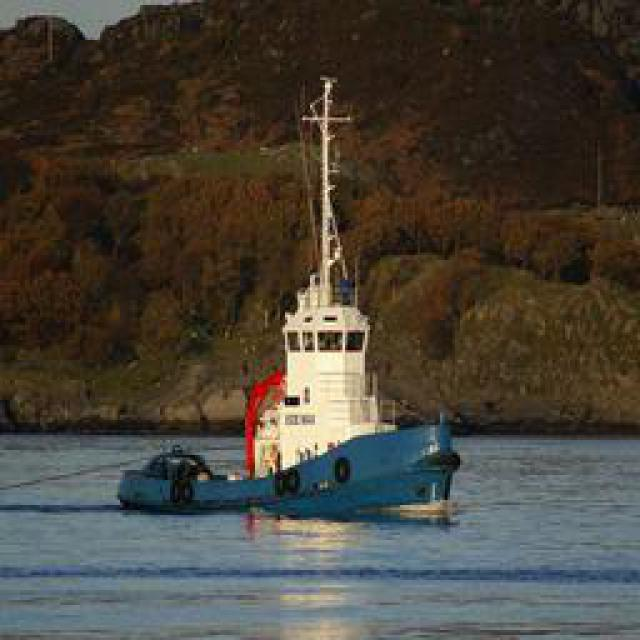Ship: (96, 276, 468, 520)
